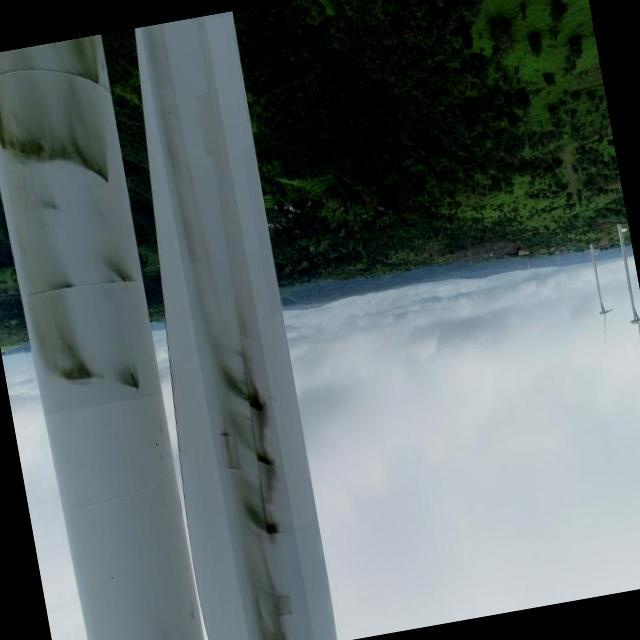Dirt: (150, 25, 309, 640), (0, 31, 152, 402)
Pin Hole: (245, 388, 273, 418), (259, 516, 290, 538), (256, 447, 278, 468)
